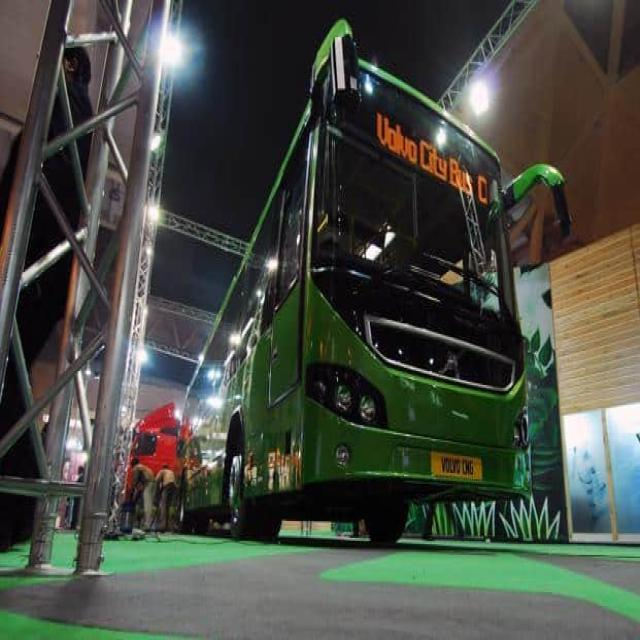bus: (181, 21, 564, 542)
